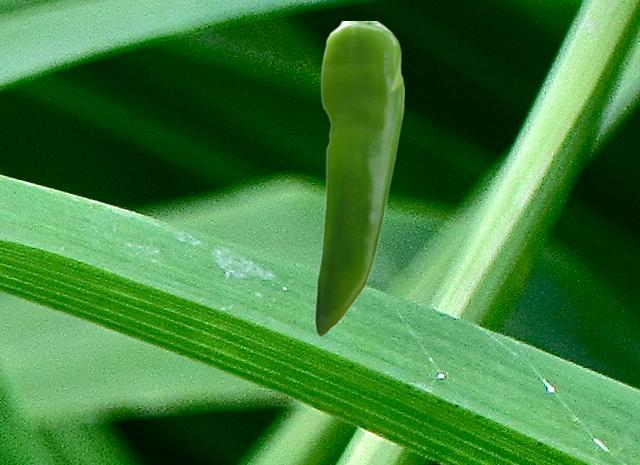green_chili: (314, 21, 403, 335)
